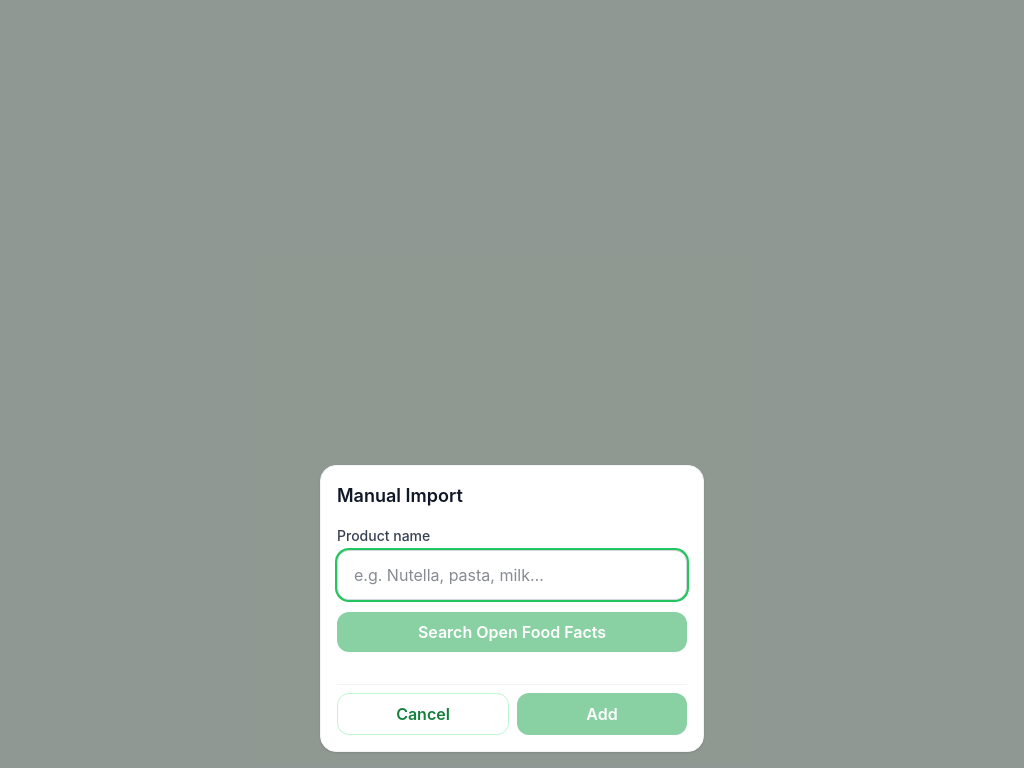
Test: ManualImportModal — search › shows an error message when the search request fails
This screenshot has width=1024, height=768.
Type "Nutella" into the field with placeholder "e.g. Nutella, pasta, milk…". click: x=512, y=575
box: [337, 550, 687, 600]
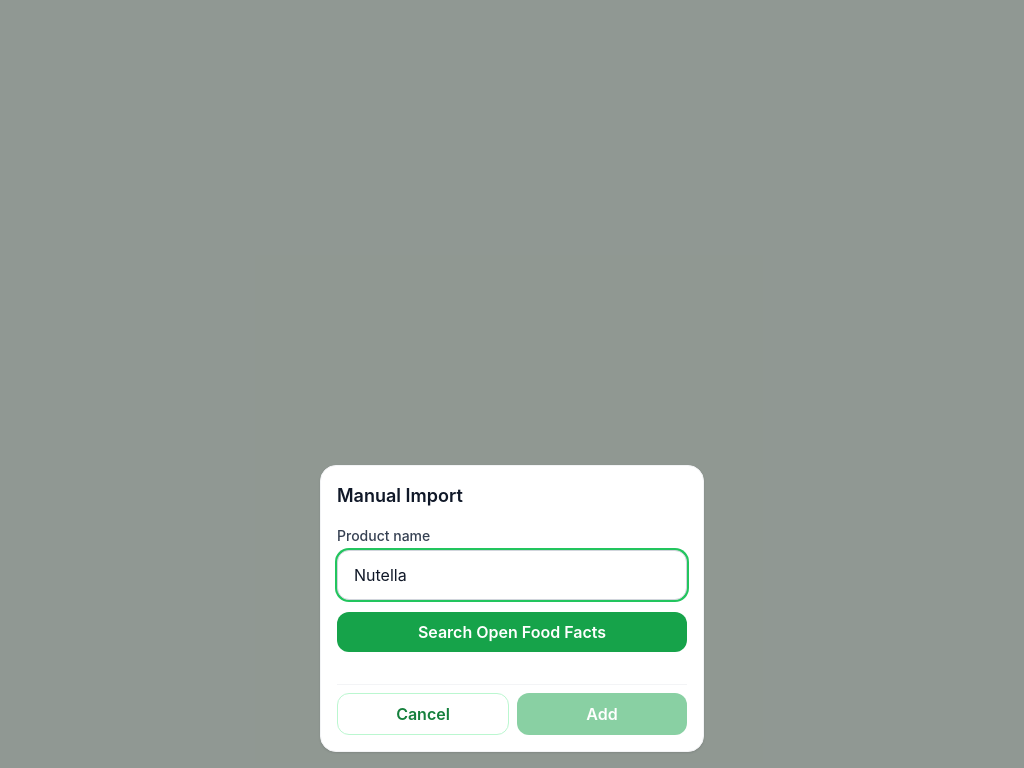
Click the button "Search Open Food Facts". click: x=512, y=632
box: [337, 612, 687, 652]
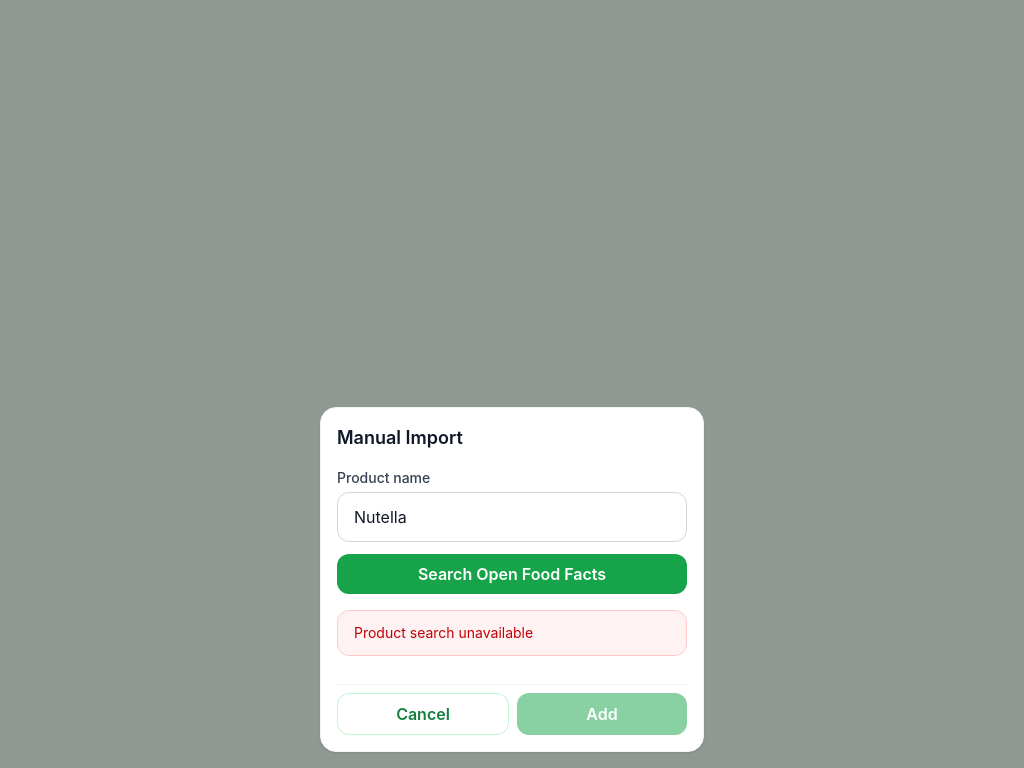
Now the text "Product search unavailable" is shown, box [337, 610, 687, 656]
